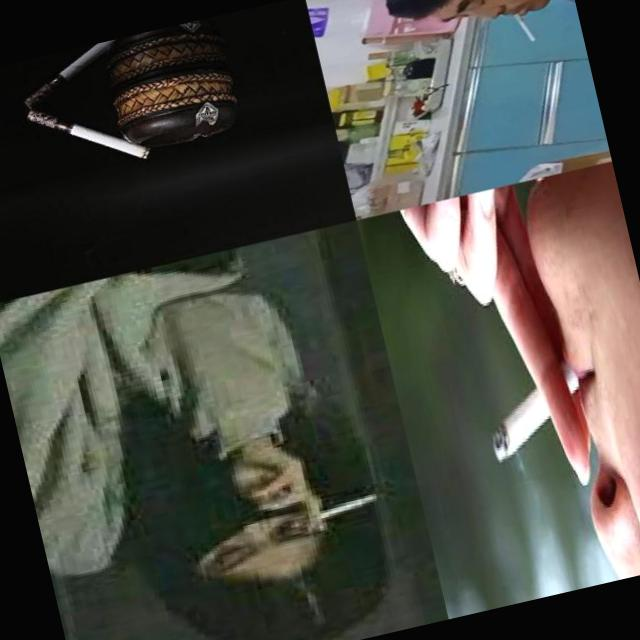cigarette: (475, 348, 603, 462), (23, 84, 154, 184), (13, 39, 128, 111), (285, 492, 383, 531), (514, 10, 536, 43)
